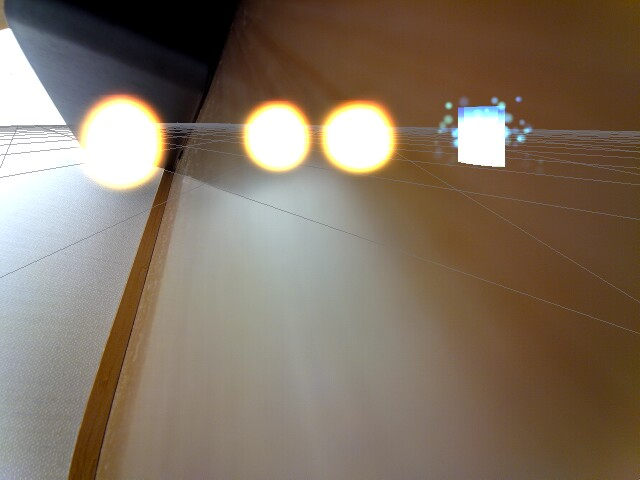firebig: (77, 86, 172, 195)
